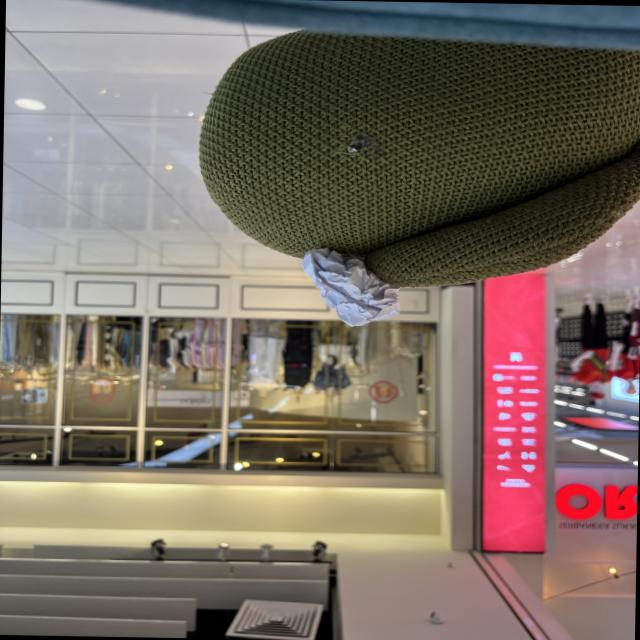crumpled_paper: (298, 243, 402, 329)
